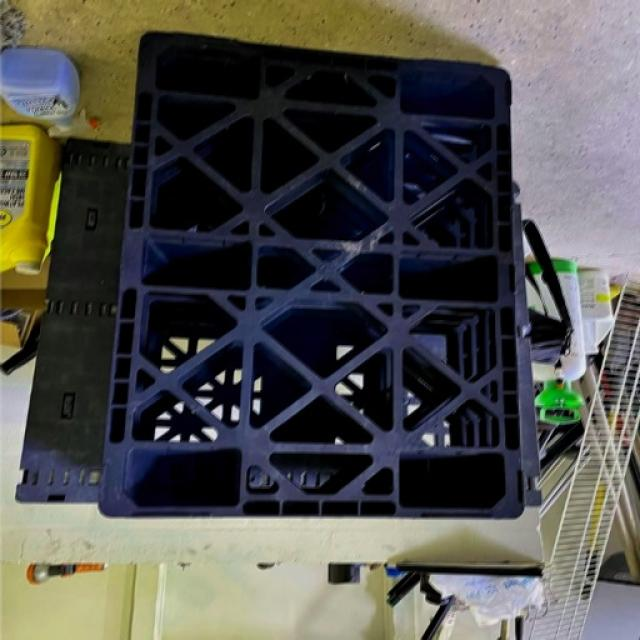non-igps: (85, 22, 536, 526), (9, 128, 136, 510)
